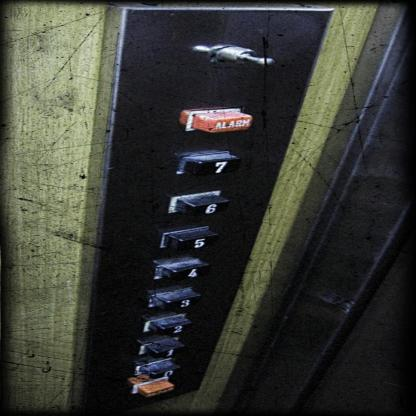0: (134, 360, 178, 378)
1: (137, 338, 183, 358)
2: (140, 314, 192, 336)
3: (146, 288, 202, 311)
4: (152, 259, 207, 281)
5: (160, 225, 223, 252)
6: (170, 191, 232, 218)
7: (175, 150, 239, 178)
switch: (200, 40, 276, 70)
text_ALARM: (180, 106, 256, 134)
text_blur: (132, 378, 173, 397)
